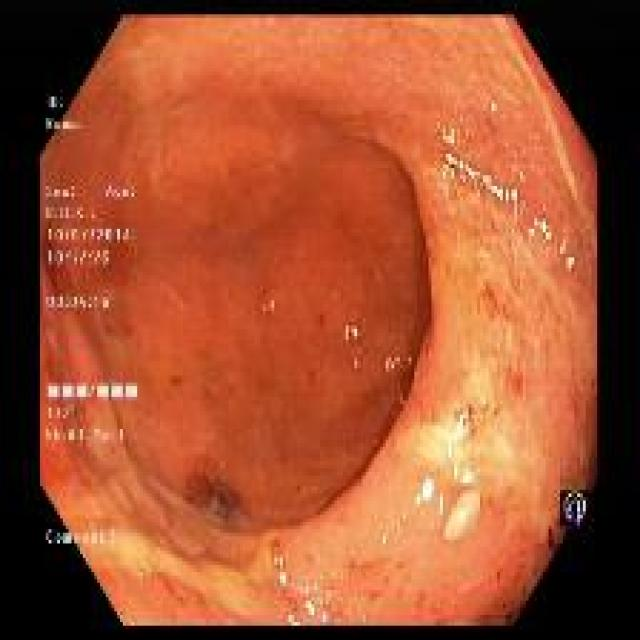ulcerative-colitis: (40, 17, 596, 625)
